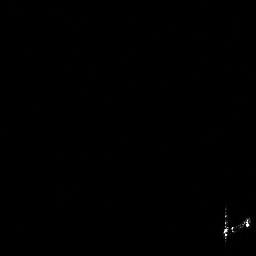ship: (219, 204, 253, 245)
